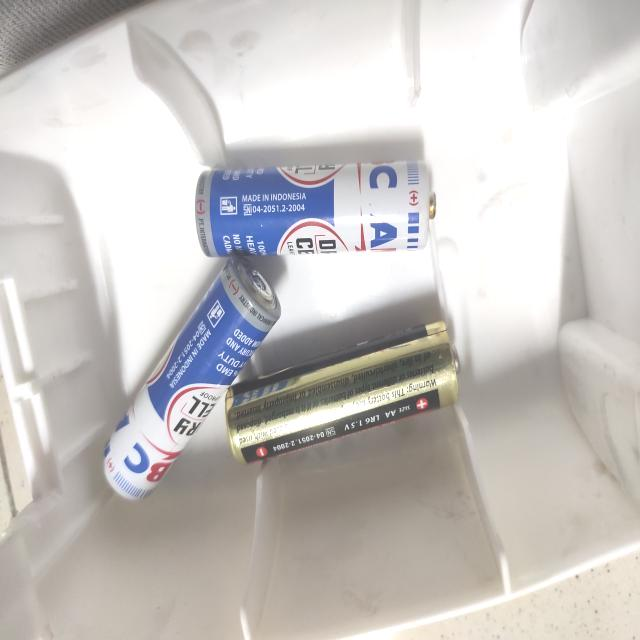AA: (65, 258, 276, 546), (213, 321, 502, 475), (180, 148, 452, 260)
